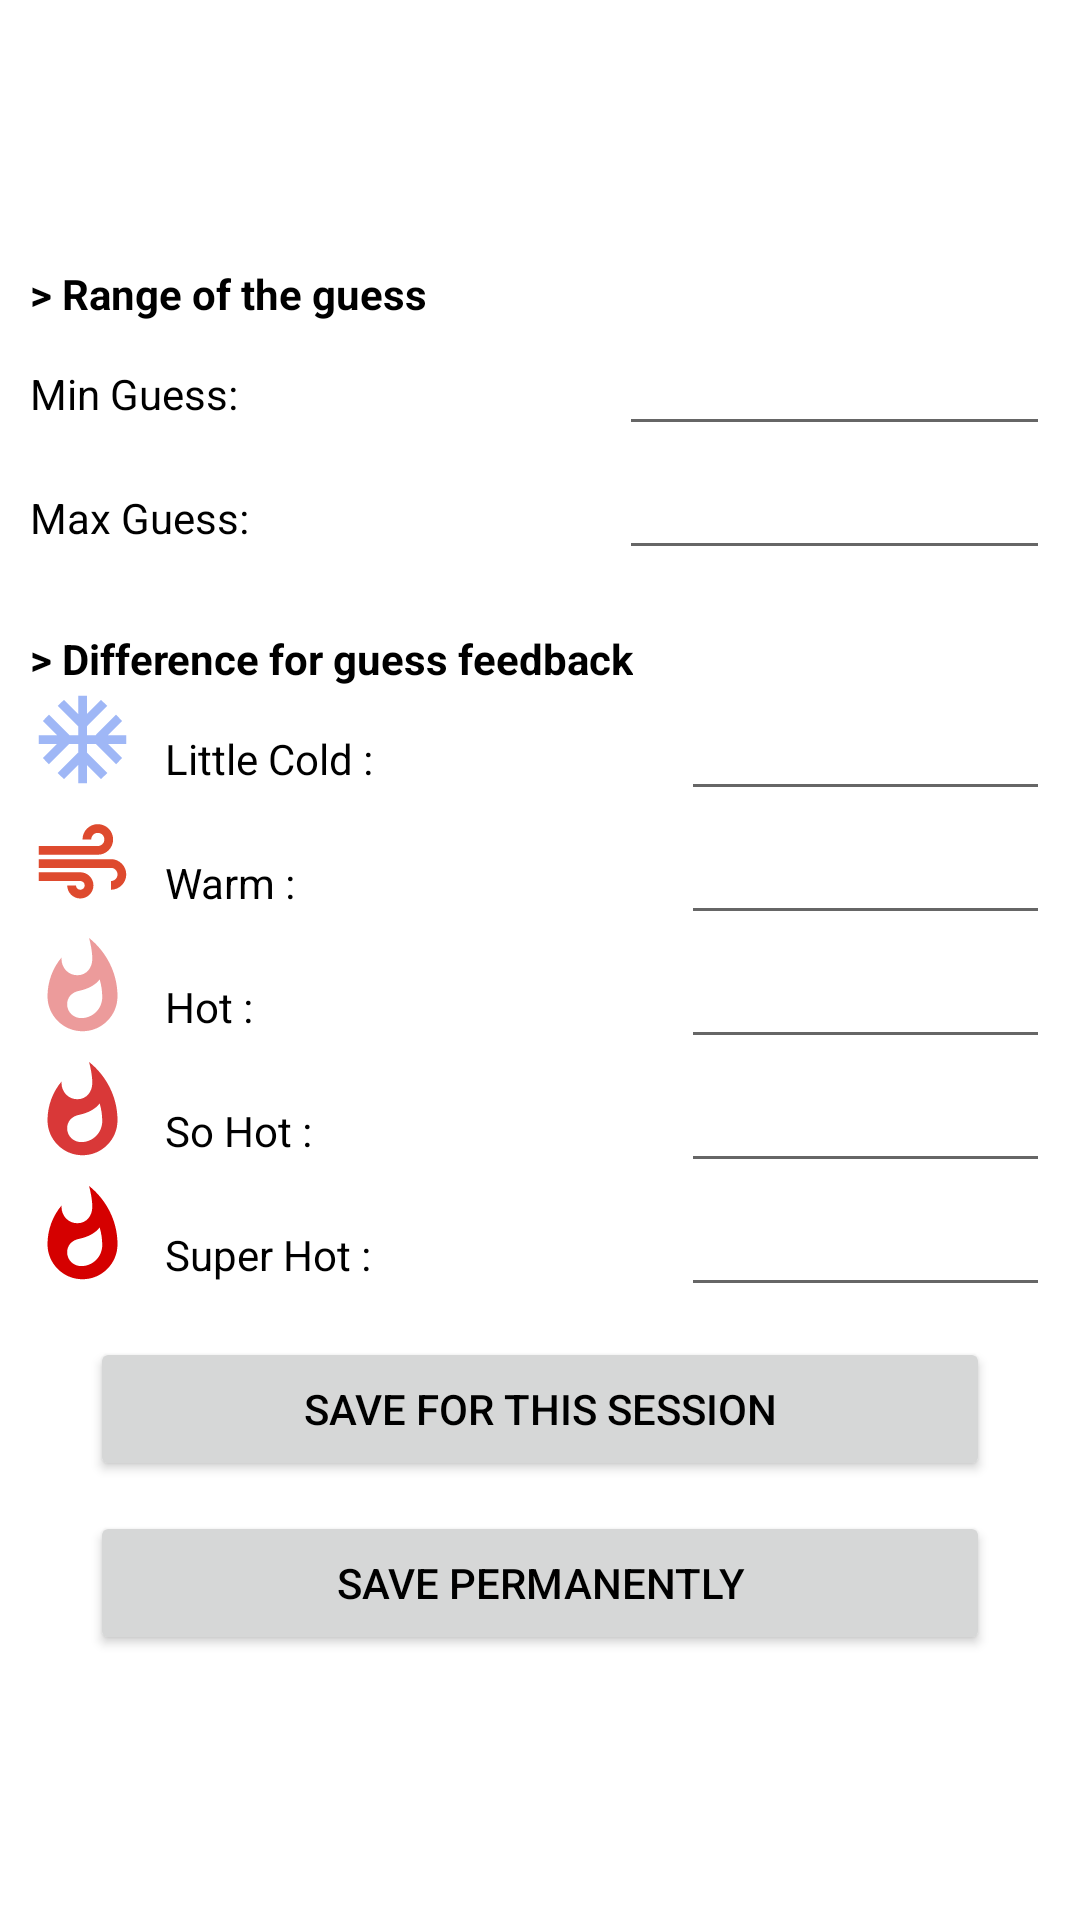

Icons on this 1080 x 1920 Android screen, each with the point to tap as (x,y):
coldish: (82,739)
hotish: (82,985)
